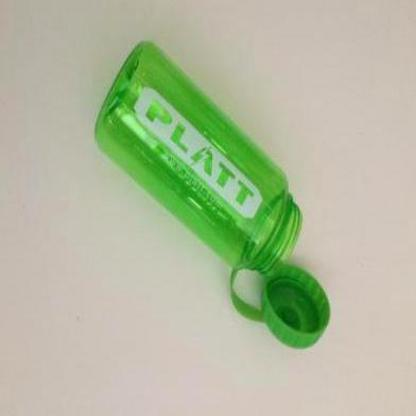plastic bottle: (95, 41, 331, 348)
